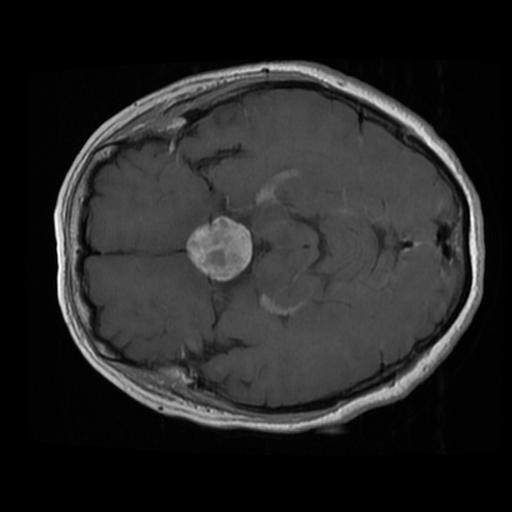pituitary tumour: (185, 216, 253, 280)
